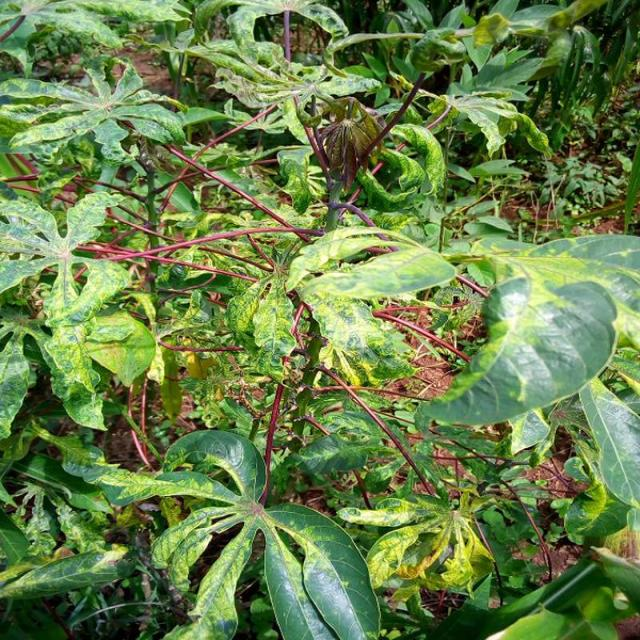cassava leaf: (62, 427, 380, 638), (414, 262, 620, 430)
